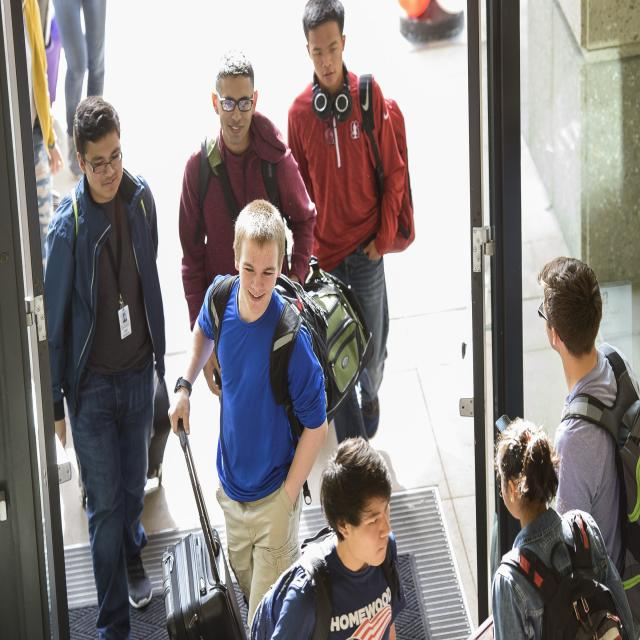body: (169, 190, 333, 640), (281, 0, 420, 509), (40, 90, 167, 640), (177, 46, 318, 405), (534, 252, 640, 640), (484, 414, 640, 640), (246, 434, 408, 640), (0, 0, 75, 197), (52, 0, 108, 180)
